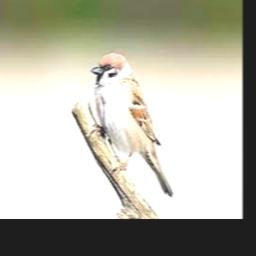Sparrow: (92, 52, 173, 196)
